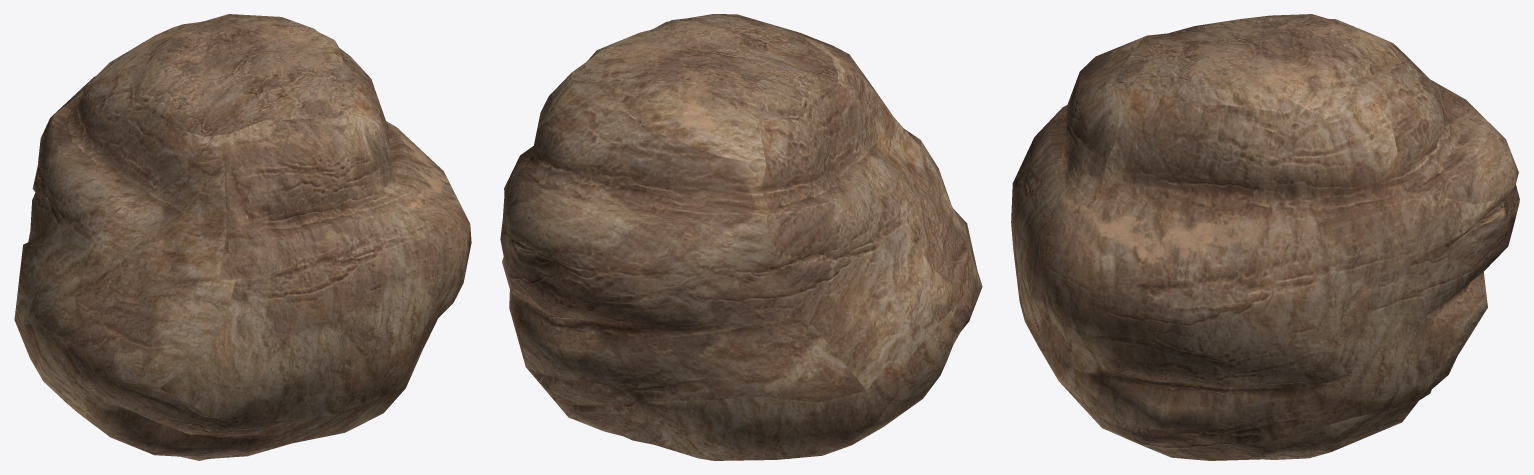
File: rock_small08.dae
3 views of the same model, side by side, from view 1: azimuth 30°, elevation 25°; view 2: azimuth 150°, elevation 25°; view 3: azimuth 270°, elevation 25° (orthographic). The views are drawn at different scales.
Visible parts, largest first — view 1: Mesh; view 2: Mesh; view 3: Mesh.
Boxes of the visible parts, <box> form: Mesh: <box>14,14,471,460</box>; Mesh: <box>500,14,982,460</box>; Mesh: <box>1011,14,1519,460</box>.
Size of the model in its own units: 1.18 by 1.06 by 1.23.
